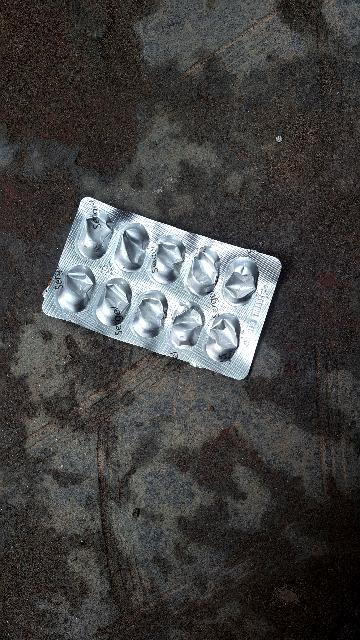medicine: (36, 185, 297, 387)
